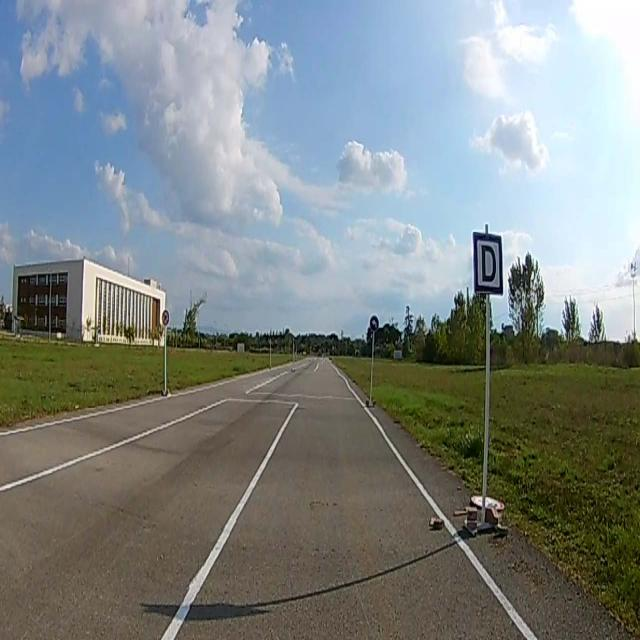durak: (473, 232, 503, 292)
